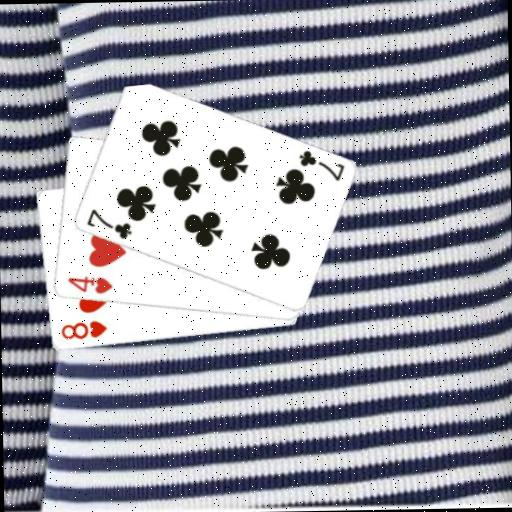4H: (65, 273, 114, 297)
7C: (295, 147, 346, 184), (83, 205, 134, 241)
8H: (58, 318, 109, 342)
